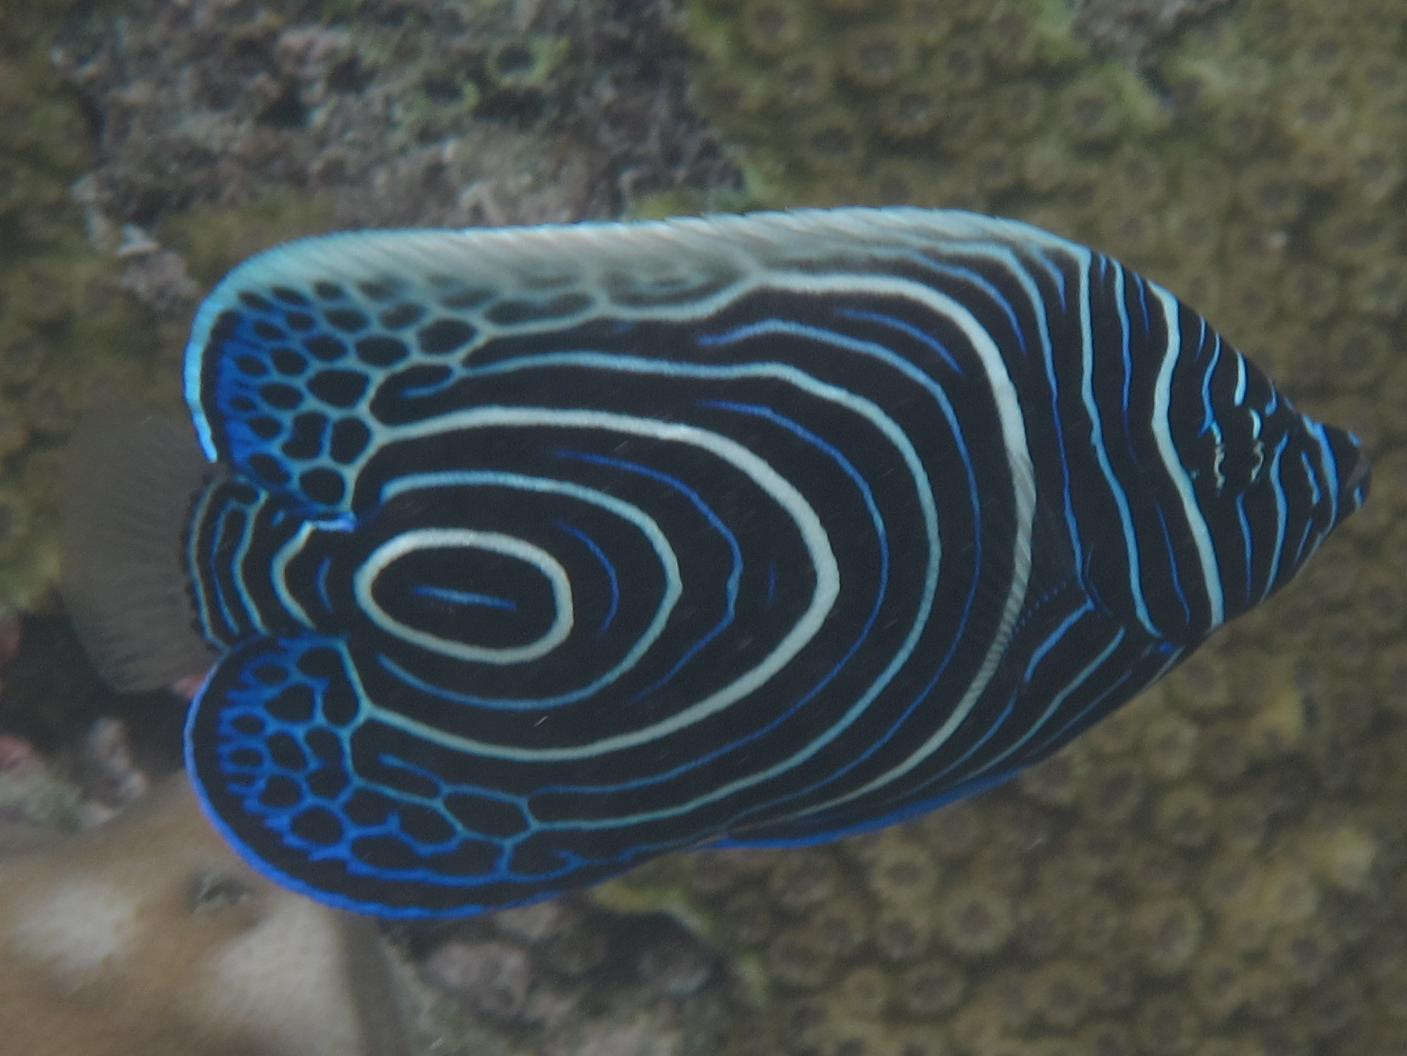Fish: (31, 172, 1385, 995), (52, 160, 59, 177)
